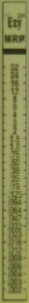number: (7, 230, 24, 239), (6, 262, 23, 271), (7, 206, 23, 215), (7, 222, 24, 230), (6, 239, 23, 247), (7, 190, 23, 198), (6, 198, 22, 206), (7, 215, 23, 223), (7, 254, 23, 262), (7, 278, 23, 286), (7, 270, 22, 278), (6, 286, 23, 293), (7, 247, 23, 254), (9, 174, 22, 182), (10, 134, 21, 143), (9, 143, 21, 151), (9, 166, 21, 174), (10, 182, 22, 190), (9, 71, 19, 80), (8, 63, 19, 71), (10, 151, 21, 159), (10, 159, 21, 167), (10, 80, 20, 88), (10, 87, 19, 95), (12, 119, 18, 128), (12, 95, 18, 103), (12, 103, 18, 111), (12, 127, 18, 134), (12, 111, 17, 118)
